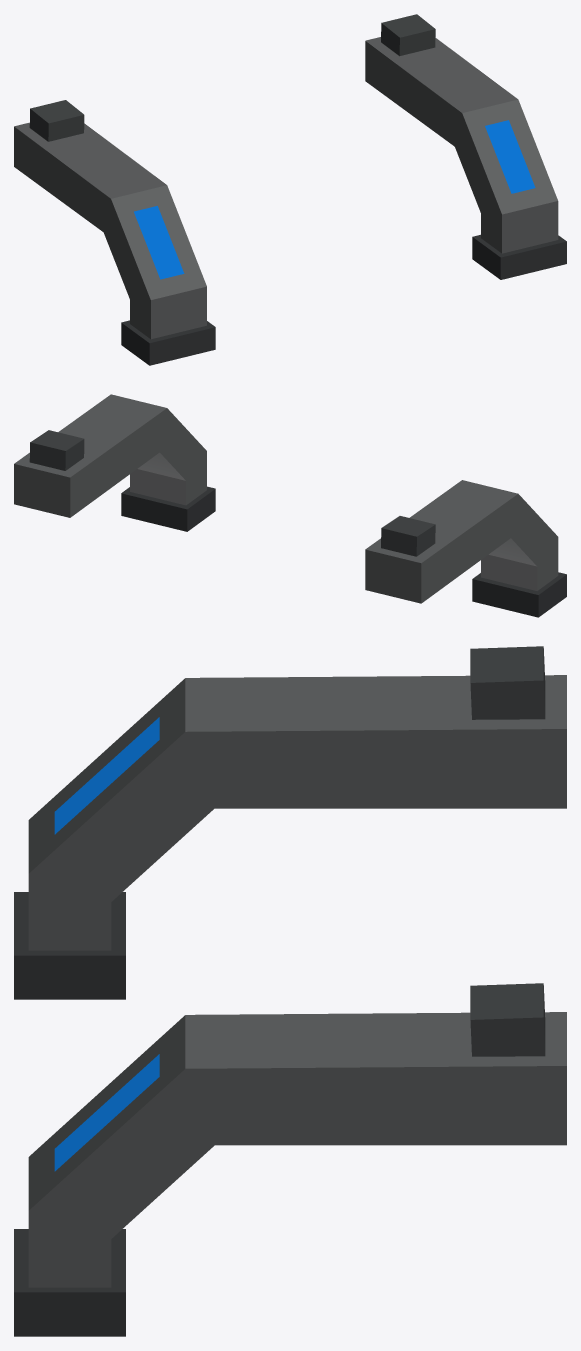
Rendered from Ladder_handle_002.glb.
3 renders of one model, top to bottom at view 1: azimuth 30°, elevation 25°; view 2: azimuth 150°, elevation 25°; view 3: azimuth 270°, elevation 25°, orthographic. The views are drawn at different scales.
Parts seen in each view (by area): view 1: Ladder_handle_002; view 2: Ladder_handle_002; view 3: Ladder_handle_002.
Boxes of the visible parts, bbox=[...] form: Ladder_handle_002: bbox=[14, 14, 566, 365]; Ladder_handle_002: bbox=[14, 394, 566, 617]; Ladder_handle_002: bbox=[14, 646, 566, 1336].
Bounding box in the file's own units: 1.19 × 0.4216 × 0.6936.
Materials: 2 (2 with a texture image).
